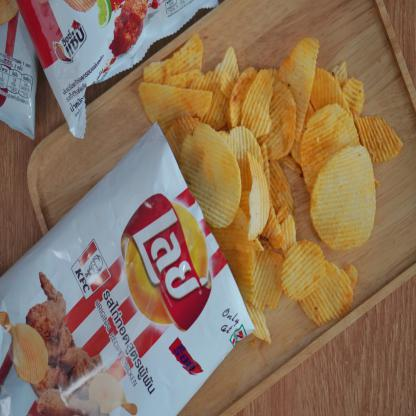potatochip: (0, 114, 258, 416), (15, 0, 226, 146)
